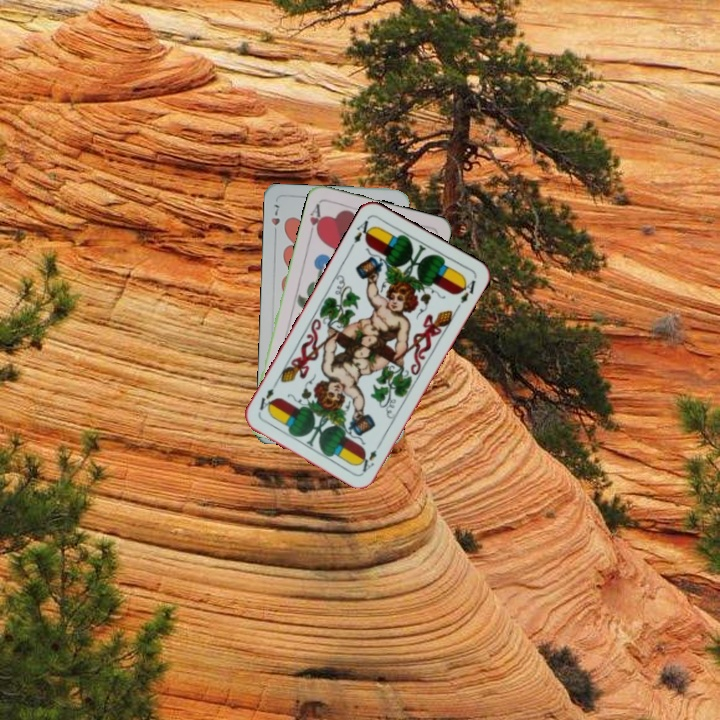EA: (346, 216, 376, 251), (356, 438, 384, 475)
H7: (267, 200, 283, 239)
HA: (305, 200, 326, 239)
